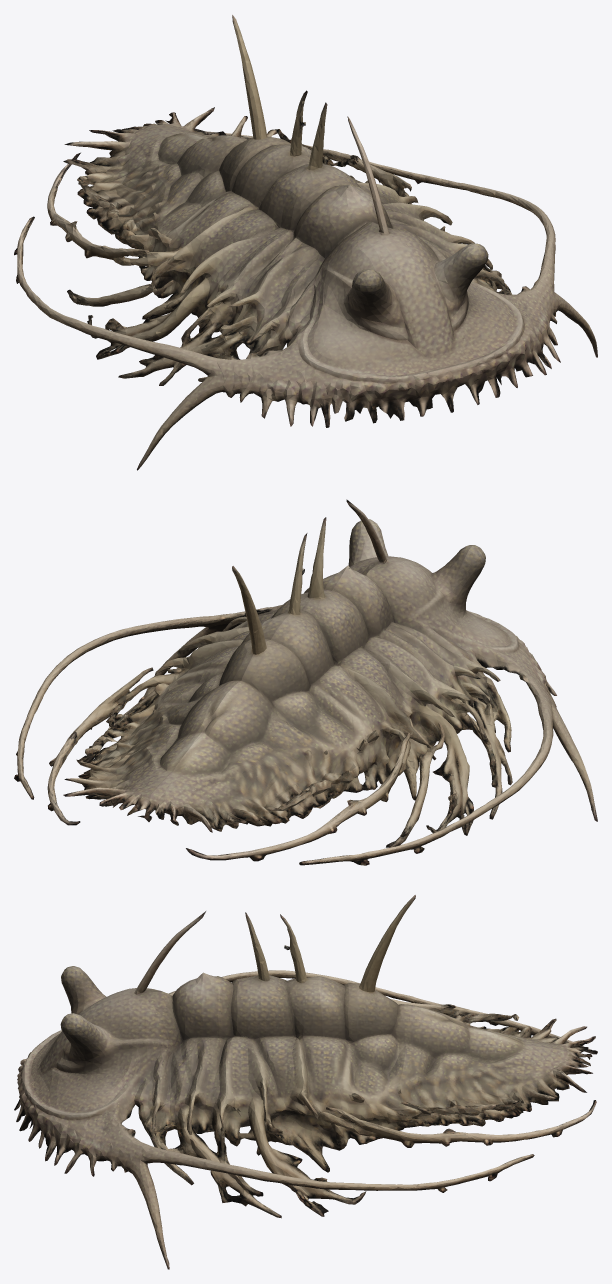
3 renders of one model, top to bottom at view 1: azimuth 30°, elevation 25°; view 2: azimuth 150°, elevation 25°; view 3: azimuth 270°, elevation 25°, orthographic. The views are drawn at different scales.
Parts seen in each view (by area): view 1: geometry_0; view 2: geometry_0; view 3: geometry_0.
Boxes of the visible parts, x1,y1,x2,y2 form: geometry_0: (14, 15, 597, 470); geometry_0: (14, 499, 597, 865); geometry_0: (14, 895, 597, 1269).
Bounding box in the file's own units: 0.0383 × 0.0233 × 0.045.
1 material, 1 textured.
